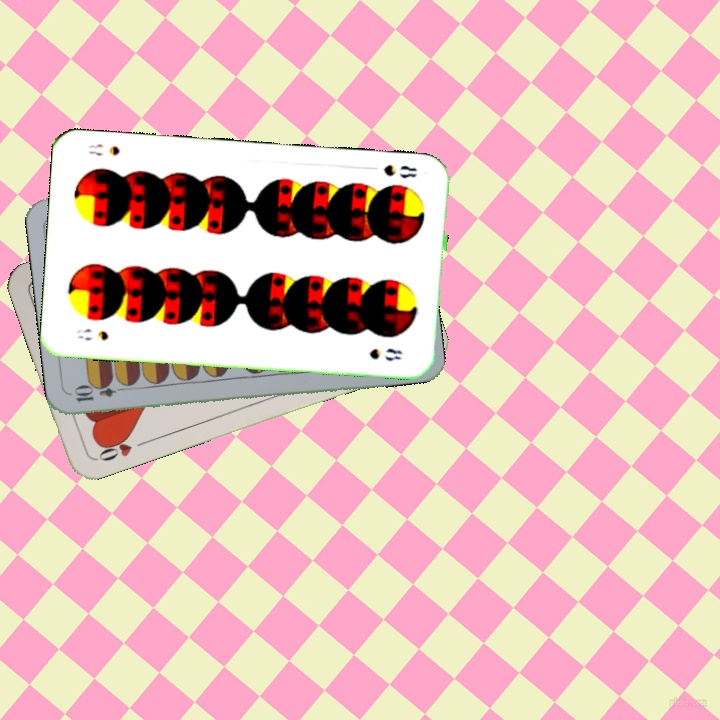E10: (70, 381, 130, 405)
HO: (92, 431, 149, 464)
S8: (379, 160, 419, 181), (72, 324, 111, 343)
